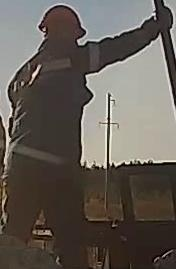gloves: (142, 5, 174, 41)
helmet: (38, 5, 87, 39)
vest: (8, 41, 102, 179)
